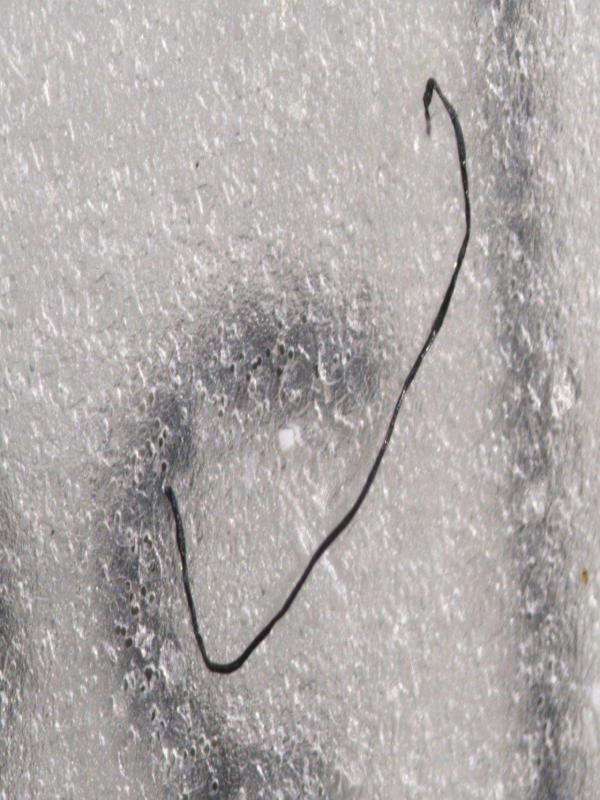microplastic: (162, 75, 471, 675)
